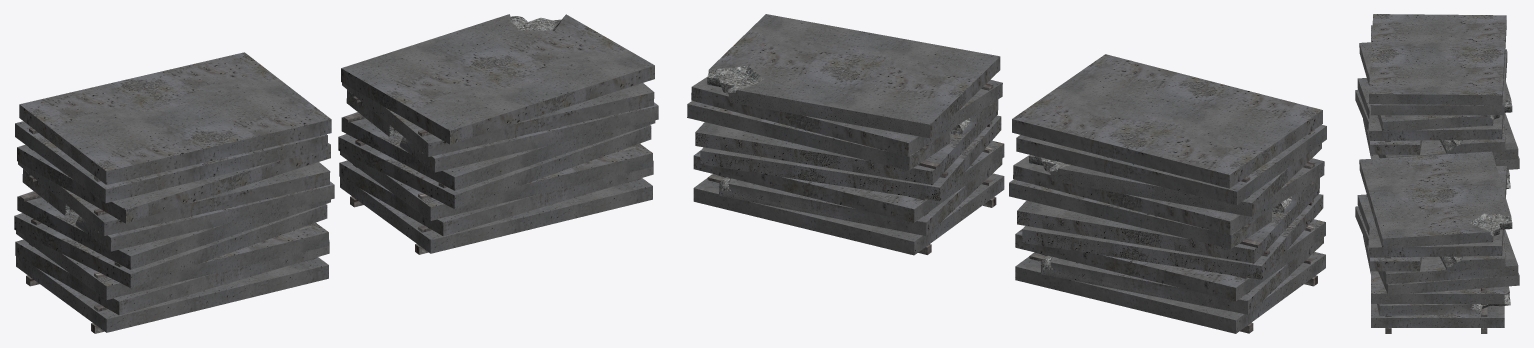
File: Conctereblocks02.FBX
3 renders of one model, left to right at view 1: azimuth 30°, elevation 25°; view 2: azimuth 150°, elevation 25°; view 3: azimuth 270°, elevation 25°, orthographic. The views are drawn at different scales.
Parts seen in each view (by area): view 1: Conctereblocks02; view 2: Conctereblocks02; view 3: Conctereblocks02.
Part boxes in pixels (x1,y1,x2,y2): Conctereblocks02: (14, 14, 658, 333); Conctereblocks02: (687, 14, 1326, 333); Conctereblocks02: (1355, 14, 1519, 333).
Bounding box in the file's own units: 168 × 47.08 × 56.69.
